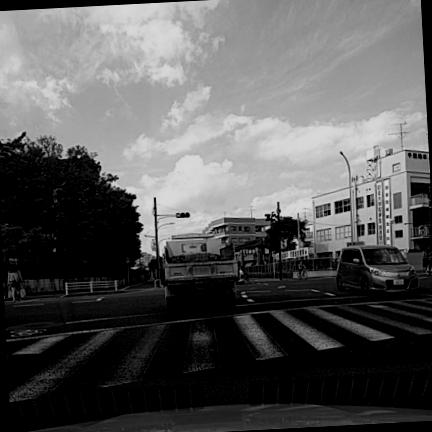Road: (4, 276, 431, 424)
